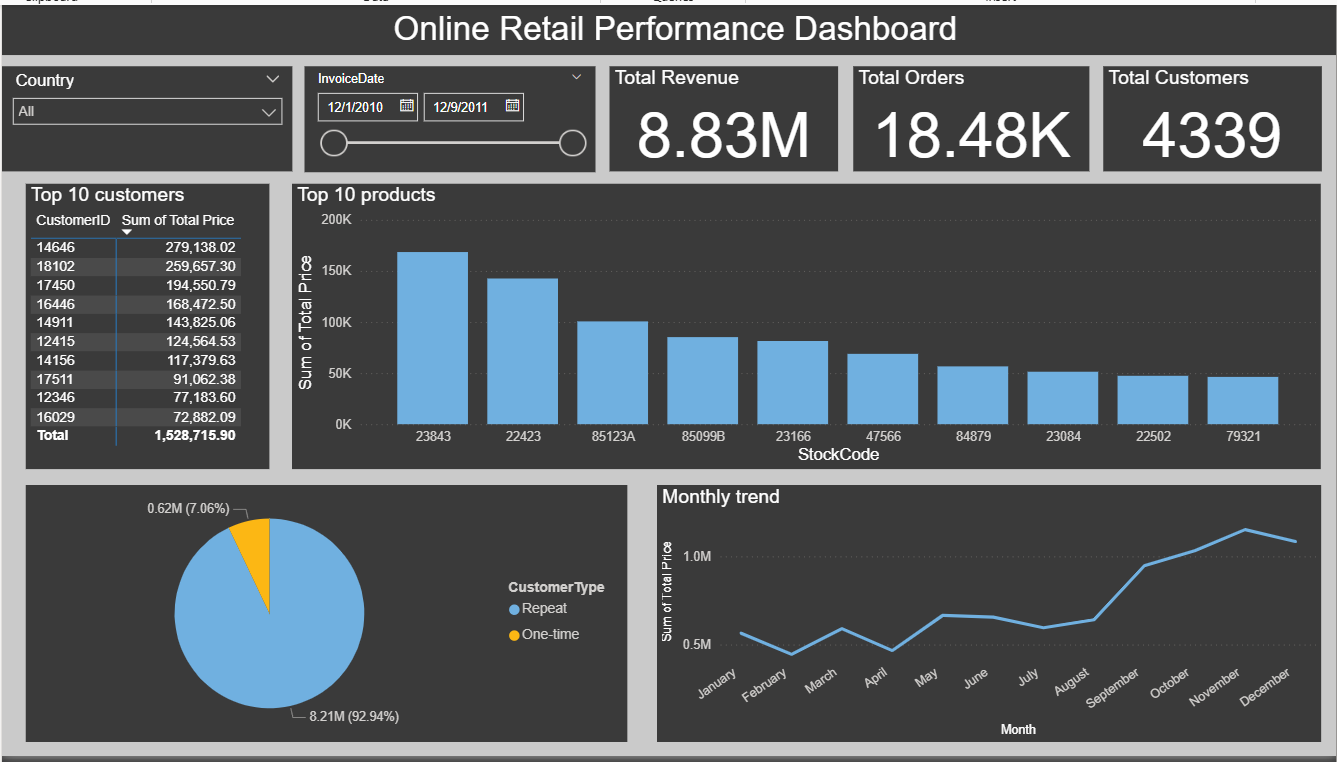

The page's visual inventory and layout, read from the dashboard file:
{"tool":"powerbi","page":{"name":"Page 1","canvas":[1280,720],"ordinal":0},"visuals":[{"type":"slicer","fields":{"Values":["filtered sales.Country"]},"box":[0,59.2,278.5,101],"z":0},{"type":"slicer","fields":{"Values":["filtered sales.InvoiceDate"]},"box":[290,59.2,278.5,101],"z":1000},{"type":"textbox","box":[0,0,1279.7,47.6],"z":2000},{"type":"card","title":"Total Revenue","fields":{"Values":["Sum(filtered sales.Total Price)"]},"box":[582.9,59.2,219.3,101],"z":3000},{"type":"card","title":"Total Orders","fields":{"Values":["Count(filtered sales.InvoiceNo)"]},"box":[816.6,59.2,226.5,101],"z":4000},{"type":"card","title":"Total Customers","fields":{"Values":["Count(filtered sales.CustomerID)"]},"box":[1056.1,59.2,209.2,101],"z":5000},{"type":"lineChart","title":"Monthly trend","fields":{"Category":["filtered sales.InvoiceDate.Variation.Date Hierarchy.Month"],"Y":["Sum(filtered sales.Total Price)"]},"box":[628.3,460,636.7,246.7],"z":6000},{"type":"clusteredColumnChart","title":"Top 10 products","fields":{"Y":["Sum(filtered sales.Total Price)"],"Category":["filtered sales.StockCode"]},"box":[278.3,171.7,986.7,273.3],"z":7000},{"type":"pieChart","fields":{"Y":["Sum(filtered sales.Total Price)"],"Category":["filtered sales.CustomerType"]},"box":[23.3,460,576.7,246.7],"z":8000},{"type":"pivotTable","title":"Top 10 customers","fields":{"Rows":["filtered sales.CustomerID"],"Values":["Sum(filtered sales.Total Price)"]},"box":[23.3,171.7,233.3,273.3],"z":9000}]}

Visuals, with their boxes in screenshot pixels (x1, y1, x2, y2), scaled from the page's 1280x720 canvas onto the 1337x762 screenshot:
slicer - filtered sales.Country: 0,63,291,170
slicer - filtered sales.InvoiceDate: 303,63,594,170
textbox: 0,0,1336,50
"Total Revenue" card: 609,63,838,170
"Total Orders" card: 853,63,1090,170
"Total Customers" card: 1103,63,1322,170
"Monthly trend" lineChart: 656,487,1321,748
"Top 10 products" clusteredColumnChart: 291,182,1321,471
pieChart - Sum(filtered sales.Total Price) x filtered sales.CustomerType: 24,487,627,748
"Top 10 customers" pivotTable: 24,182,268,471
